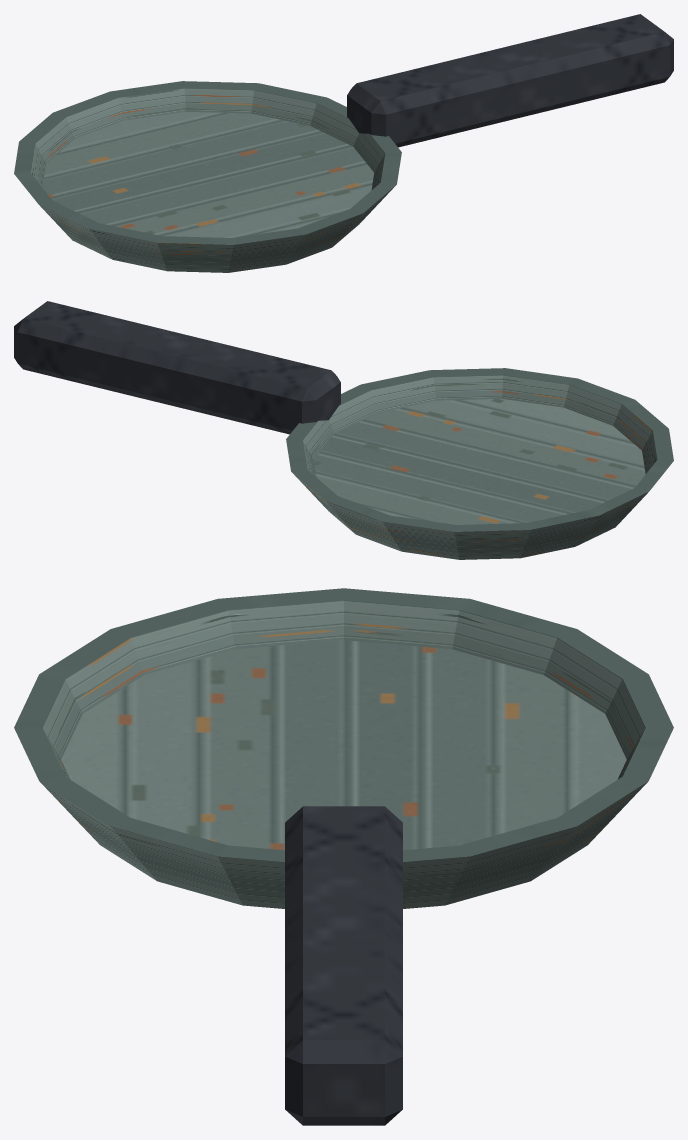
The model's file is MD_64_FryingPan.fbx.
The picture shows the model from 3 angles, top to bottom: view 1: azimuth 30°, elevation 25°; view 2: azimuth 150°, elevation 25°; view 3: azimuth 270°, elevation 25°; orthographic projection. The views are drawn at different scales.
Parts seen in each view (by area): view 1: MD_64_FryingPan_hollow_pan, MD_64_FryingPan_pan_handle; view 2: MD_64_FryingPan_hollow_pan, MD_64_FryingPan_pan_handle; view 3: MD_64_FryingPan_hollow_pan, MD_64_FryingPan_pan_handle.
Part boxes in pixels (bbox=[...]): MD_64_FryingPan_hollow_pan: bbox=[14, 81, 401, 272]; MD_64_FryingPan_pan_handle: bbox=[347, 14, 673, 147]; MD_64_FryingPan_hollow_pan: bbox=[286, 368, 673, 559]; MD_64_FryingPan_pan_handle: bbox=[14, 301, 340, 434]; MD_64_FryingPan_hollow_pan: bbox=[14, 588, 673, 908]; MD_64_FryingPan_pan_handle: bbox=[285, 806, 402, 1125].
Bounding box in the file's own units: 0.515 × 0.06 × 0.28.
2 materials, 2 textured.
